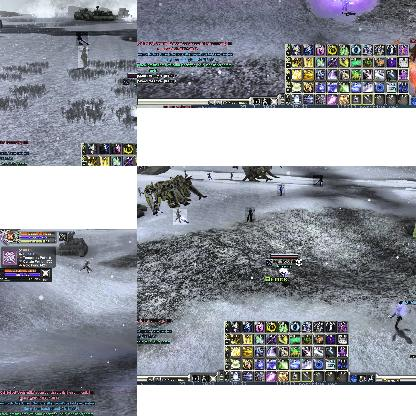caliana: (390, 304, 404, 330), (173, 209, 187, 225), (78, 46, 88, 68), (76, 32, 88, 46), (245, 207, 255, 223), (79, 260, 91, 272), (313, 175, 323, 187), (277, 184, 285, 196), (207, 172, 213, 182), (137, 187, 143, 197), (183, 171, 191, 177), (230, 171, 233, 179)
